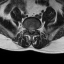CCS_normal: (30, 28, 32, 35)
LFS_severe_stenosis: (34, 27, 36, 33)
LLS_normal: (32, 28, 34, 34)
RFS_stenosis: (26, 26, 28, 32)
RLS_normal: (28, 28, 30, 34)
